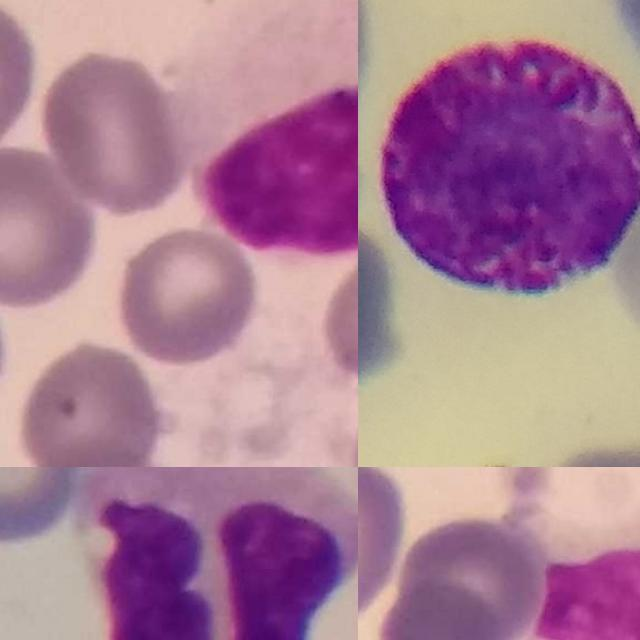Basophil: (378, 36, 640, 298)
Lymphocyte: (177, 0, 358, 262)
Monocyte: (83, 467, 358, 640), (531, 479, 640, 640)
